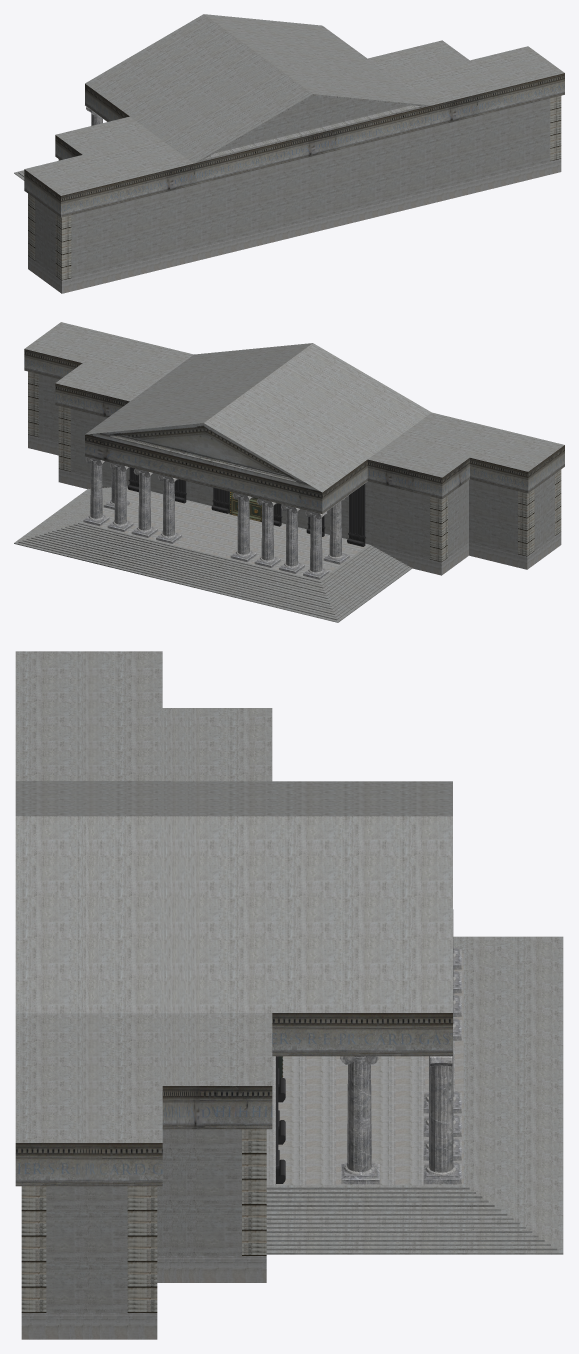
File: courthouse_ext.FBX
The picture shows the model from 3 angles, top to bottom: view 1: azimuth 30°, elevation 25°; view 2: azimuth 150°, elevation 25°; view 3: azimuth 270°, elevation 25°; orthographic projection. The views are drawn at different scales.
Visible parts, largest first — view 1: Box009; view 2: Box009, Object117, Object122, Object116, Object113, Object107, Object115, Object112, Object111, Object114, Object118, Object105 (+1 smaller); view 3: Box009, Object119, Object117.
Part boxes in pixels (bbox=[...]): Box009: bbox=[14, 14, 564, 293]; Box009: bbox=[14, 322, 564, 622]; Object117: bbox=[83, 457, 109, 526]; Object122: bbox=[347, 483, 365, 546]; Object116: bbox=[107, 463, 133, 531]; Object113: bbox=[230, 493, 256, 561]; Object107: bbox=[303, 510, 329, 579]; Object115: bbox=[131, 468, 157, 537]; Object112: bbox=[254, 498, 280, 567]; Object111: bbox=[279, 504, 304, 573]; Object114: bbox=[156, 474, 181, 543]; Object118: bbox=[323, 498, 349, 564]; Object105: bbox=[229, 491, 261, 521]; Box009: bbox=[15, 651, 563, 1339]; Object119: bbox=[340, 1056, 379, 1184]; Object117: bbox=[423, 1056, 461, 1184].
Bounding box in the file's own units: 1864 × 495 × 877.
